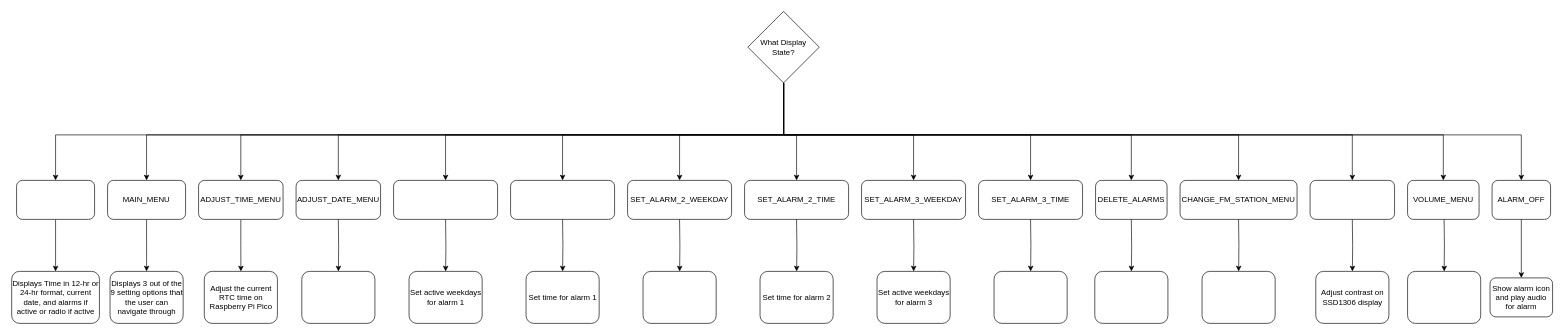
The diagram is 1564 pixels wide and 335 high, and some of its shapes have lost their labels. Each missing label, with the centre of its shape:
"Adjust the current RTC date on Raspberry Pi Pico" goes at point 338,297.
"Adjust volume of audio output" goes at point 1444,297.
"BRIGHTNESS_MENU" goes at point 1352,199.
"Change frequency and active FM radio module" goes at point 1238,297.
"DEFAULT_CLOCK" goes at point 55,199.
"Delete/reset/mute any of the 3 alarms" goes at point 1131,297.
"Set active weekdays for alarm 2" goes at point 679,297.
"Set time for alarm 3" goes at point 1030,297.
"SET_ALARM_1_TIME" goes at point 562,199.
"SET_ALARM_1_WEEKDAY" goes at point 445,199.
